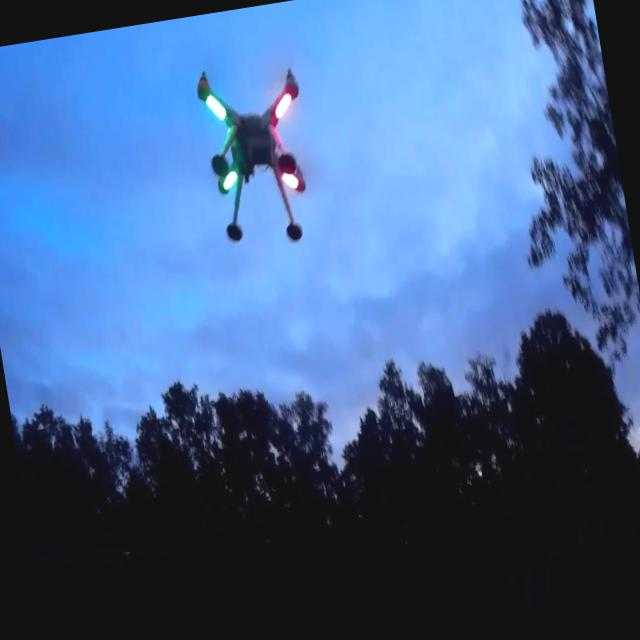drone: (182, 54, 326, 259)
